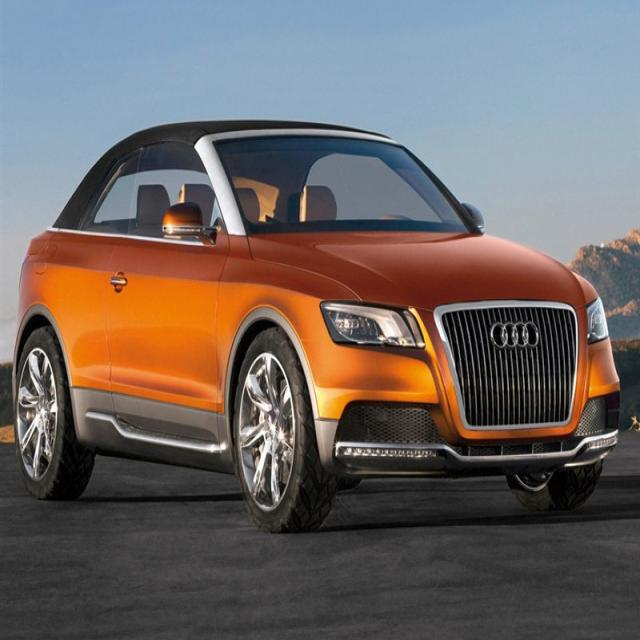front_bumper: (314, 379, 624, 484)
front_glass: (210, 133, 476, 242)
front_left_side_light: (583, 291, 613, 348)
front_left_side_mirror: (460, 198, 490, 232)
front_right_side_door: (110, 131, 232, 461)
front_right_side_light: (318, 295, 436, 351)
front_right_side_mirror: (159, 201, 213, 254)
wheel: (227, 325, 332, 533), (14, 317, 95, 503)
